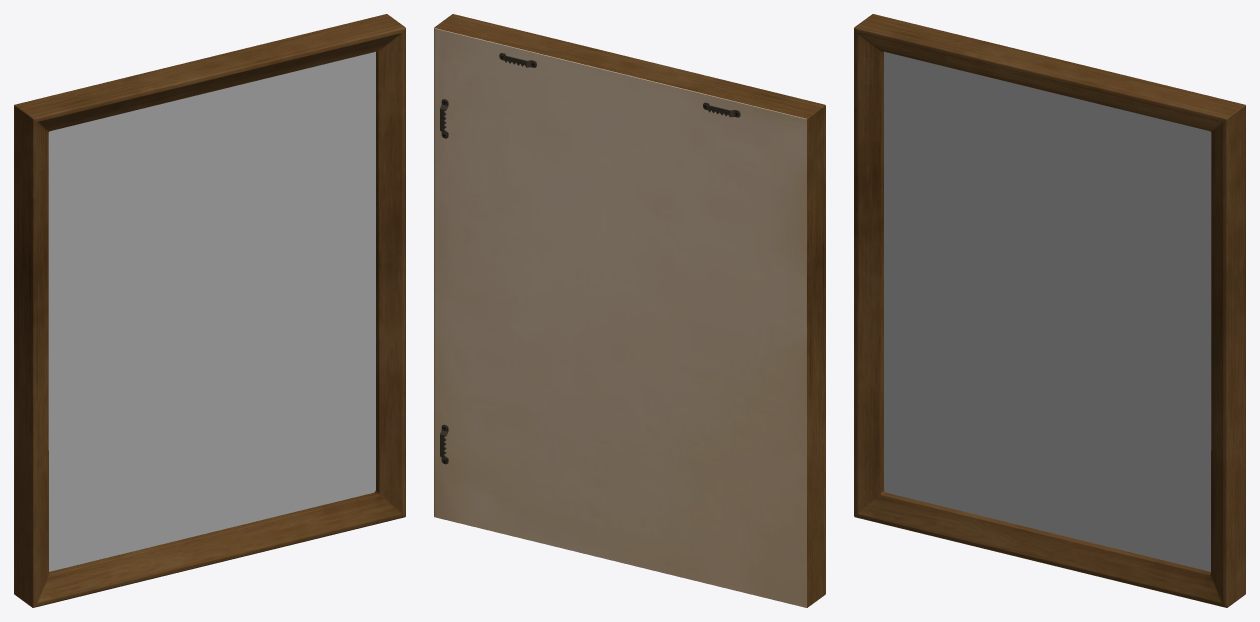
The model's file is abo-B07RPPBNQ3.glb.
The picture shows the model from 3 angles, left to right: view 1: azimuth 30°, elevation 25°; view 2: azimuth 150°, elevation 25°; view 3: azimuth 330°, elevation 25°; orthographic projection.
Size of the model in its own units: 0.406 by 0.509 by 0.041.
Materials: 1 (1 with a texture image).
